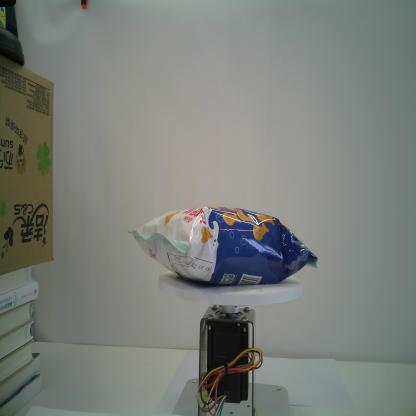Puffed Food: (127, 205, 318, 287)
